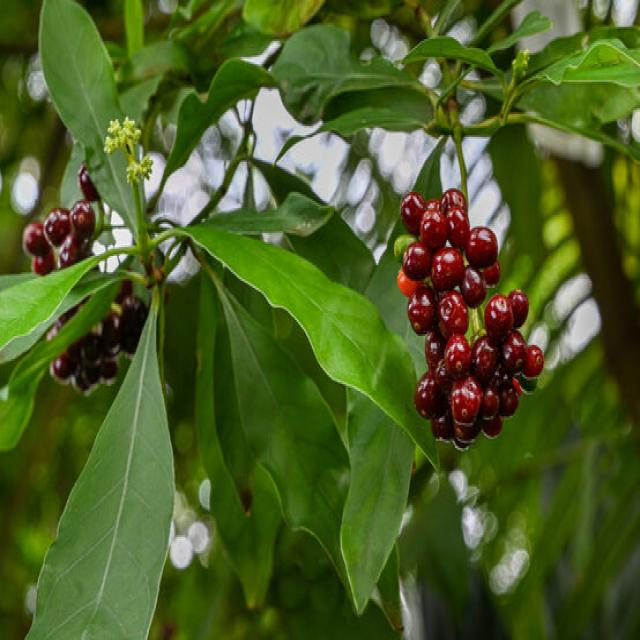Ipecac: (63, 22, 503, 555), (0, 190, 327, 640), (362, 134, 520, 459), (8, 169, 158, 365)
